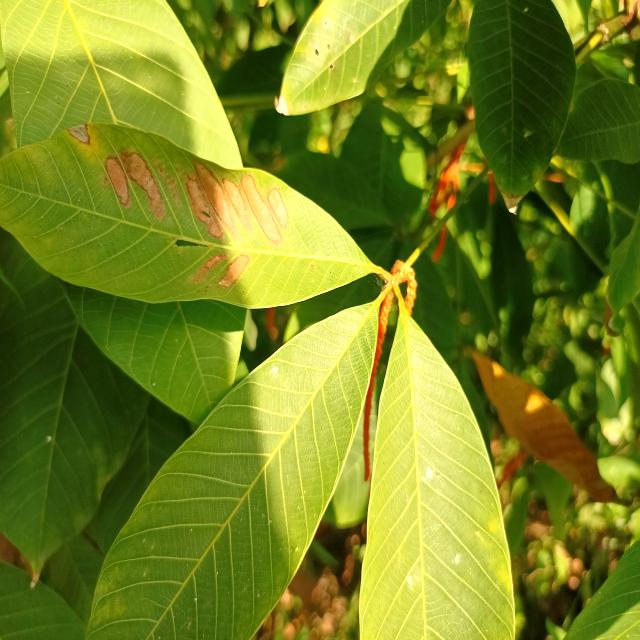Leaf-Blight: (192, 158, 234, 244), (124, 148, 168, 222), (243, 173, 280, 254), (182, 169, 222, 240), (225, 174, 255, 241), (107, 156, 132, 208), (267, 182, 294, 230), (221, 252, 249, 293), (200, 249, 222, 285), (69, 124, 92, 146)
